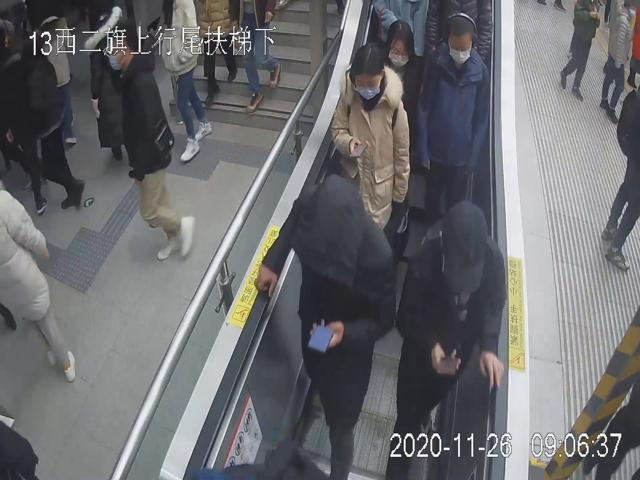person: (252, 172, 396, 480), (383, 200, 505, 480), (103, 27, 195, 262), (329, 41, 410, 236), (415, 9, 491, 216), (379, 18, 419, 105)
